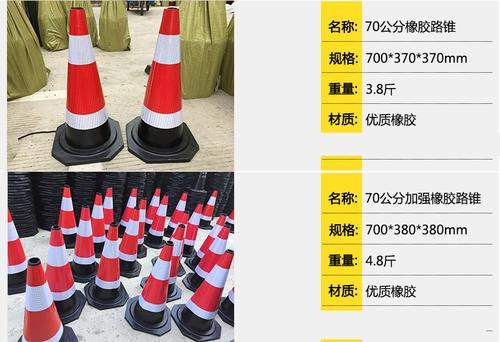cone_barrel: (129, 8, 192, 155), (54, 11, 117, 153), (178, 247, 232, 331), (19, 258, 67, 341), (130, 241, 174, 327), (42, 226, 76, 311), (89, 222, 121, 302), (72, 203, 94, 275), (7, 210, 26, 291), (118, 205, 139, 273), (52, 184, 77, 240), (144, 191, 169, 244), (183, 197, 203, 251), (167, 190, 188, 235), (90, 189, 105, 244), (200, 189, 215, 226), (103, 186, 113, 227)
